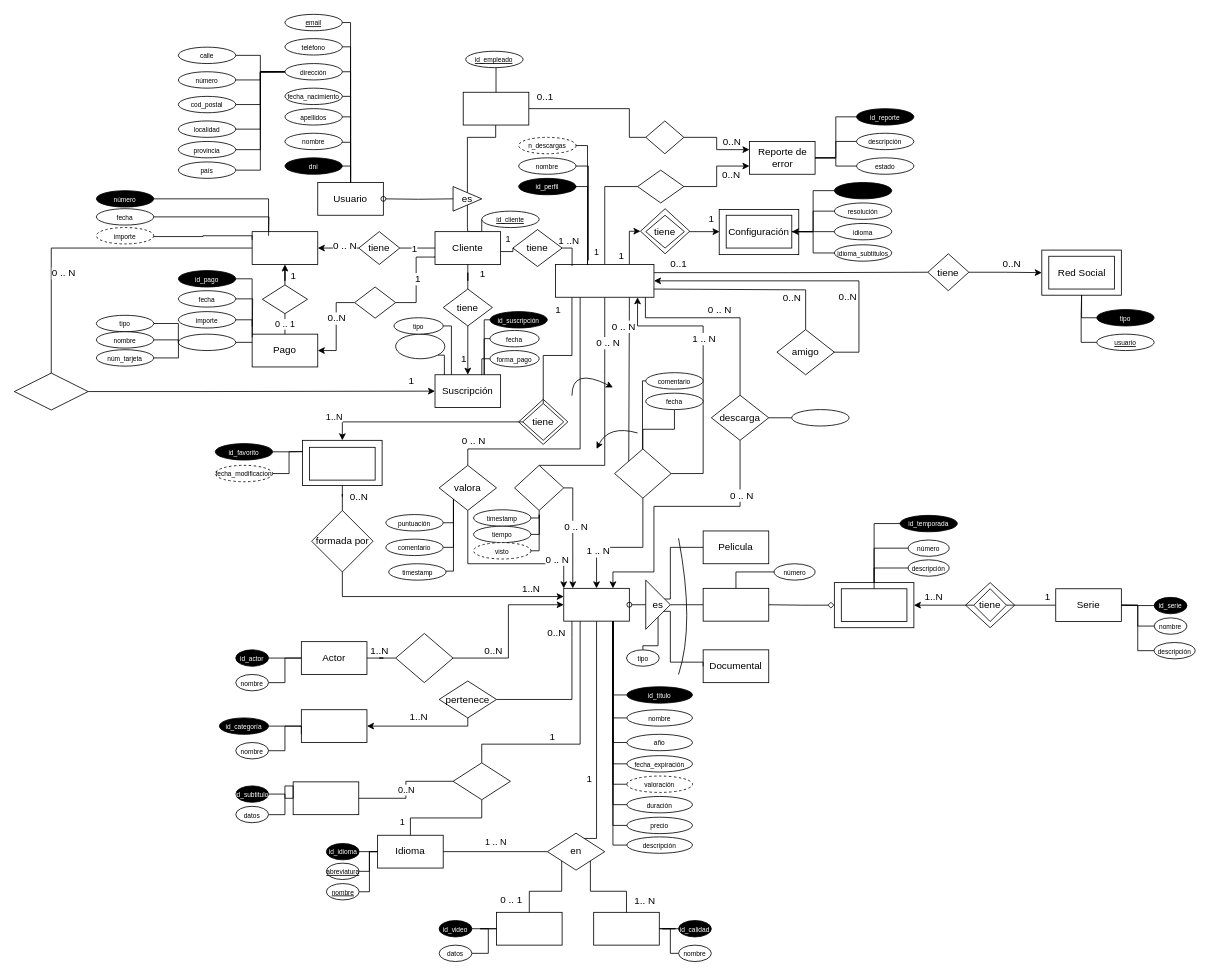
Some shapes in this 1210 by 977 pixel diagram are drawn without their labels. The centre of each missing label's shape, as x and y in pixels:
"asiste" belongs at pixel 664 137.
"asociada" belongs at pixel 51 391.
"Calidad" belongs at pixel 626 928.
"Capítulo" belongs at pixel 735 604.
"Categoría" belongs at pixel 334 726.
"descargas permitidas" belongs at pixel 420 346.
"detalle pago" belongs at pixel 207 342.
"Empleado" belongs at pixel 495 108.
"Factura" belongs at pixel 284 247.
"Favoritos" belongs at pixel 342 463.
"fecha_vencimiento" belongs at pixel 820 417.
"id_configuracion" belongs at pixel 863 190.
"pagar" belongs at pixel 285 299.
"Prefil" belongs at pixel 604 280.
"protagoniza" belongs at pixel 424 658.
"realiza" belongs at pixel 375 302.
"recomienda" belongs at pixel 642 473.
"reporta" belongs at pixel 660 186.
"subtitulada" belongs at pixel 481 781.
"Subtítulos" belongs at pixel 325 798.
"Temporada" belongs at pixel 873 605.
"Título" belongs at pixel 596 604.
"visualiza" belongs at pixel 539 487.
"Vídeo" belongs at pixel 529 928.
